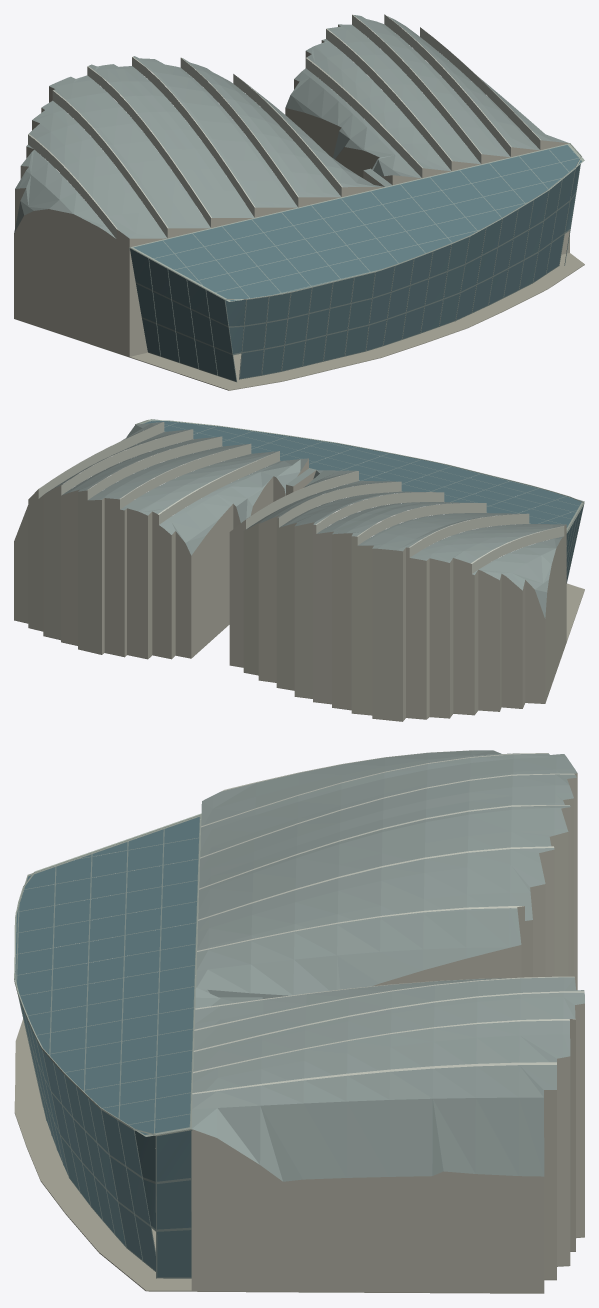
Rendered from kauffman-center-kansas-city-far.glb.
3 views of the same model, one above another, from view 1: azimuth 30°, elevation 25°; view 2: azimuth 150°, elevation 25°; view 3: azimuth 270°, elevation 25° (orthographic). The views are drawn at different scales.
Parts seen in each view (by area): view 1: kauffman-center-kansas-city-0-glass, kauffman-center-kansas-city-0-silver, kauffman-center-kansas-city-0-side, kauffman-center-kansas-city-0-rib, kauffman-center-kansas-city-0-frame, kauffman-center-kansas-city-0-stone, kauffman-center-kansas-city-0-rim; view 2: kauffman-center-kansas-city-0-side, kauffman-center-kansas-city-0-silver, kauffman-center-kansas-city-0-rib, kauffman-center-kansas-city-0-glass, kauffman-center-kansas-city-0-frame, kauffman-center-kansas-city-0-stone, kauffman-center-kansas-city-0-rim; view 3: kauffman-center-kansas-city-0-silver, kauffman-center-kansas-city-0-side, kauffman-center-kansas-city-0-glass, kauffman-center-kansas-city-0-stone, kauffman-center-kansas-city-0-frame, kauffman-center-kansas-city-0-rib, kauffman-center-kansas-city-0-rim.
Boxes of the visible parts, x1,y1,x2,y2 form: kauffman-center-kansas-city-0-glass: (130,145,581,381); kauffman-center-kansas-city-0-silver: (14,15,569,238); kauffman-center-kansas-city-0-side: (14,25,569,356); kauffman-center-kansas-city-0-rib: (28,14,540,238); kauffman-center-kansas-city-0-frame: (129,144,581,382); kauffman-center-kansas-city-0-stone: (14,253,584,390); kauffman-center-kansas-city-0-rim: (129,143,584,301); kauffman-center-kansas-city-0-side: (14,459,566,721); kauffman-center-kansas-city-0-silver: (45,422,566,618); kauffman-center-kansas-city-0-rib: (38,422,564,573); kauffman-center-kansas-city-0-glass: (143,419,583,581); kauffman-center-kansas-city-0-frame: (143,419,583,583); kauffman-center-kansas-city-0-stone: (14,583,584,721); kauffman-center-kansas-city-0-rim: (135,419,584,532); kauffman-center-kansas-city-0-silver: (191,750,584,1181); kauffman-center-kansas-city-0-side: (191,773,584,1292); kauffman-center-kansas-city-0-glass: (15,817,199,1277); kauffman-center-kansas-city-0-stone: (14,1019,584,1293); kauffman-center-kansas-city-0-frame: (15,816,200,1278); kauffman-center-kansas-city-0-rib: (192,750,584,1094); kauffman-center-kansas-city-0-rim: (14,813,201,1136).
Size of the model in its own units: 116 by 40.5 by 79.53.
